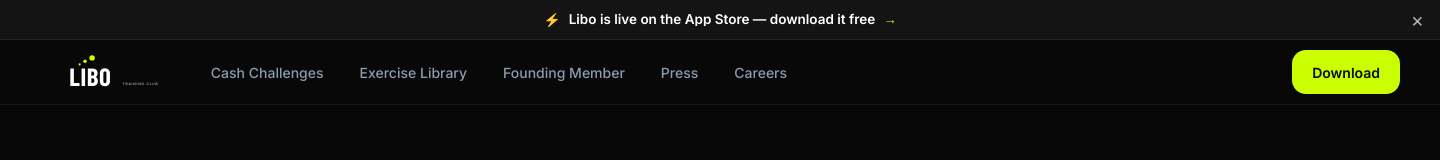
Test case: SiteNav announce bar › dismisses for the session and offsets the nav while shown
Click the button named "earlyAccess.announceDismiss". click: (1417, 20)
box: [1403, 6, 1432, 34]
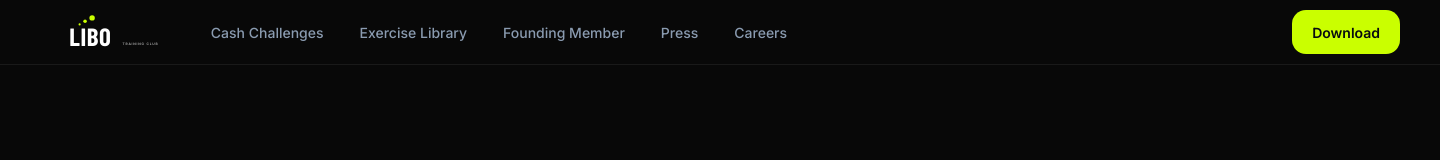
Expected: the element with class "site-announce" is gone
